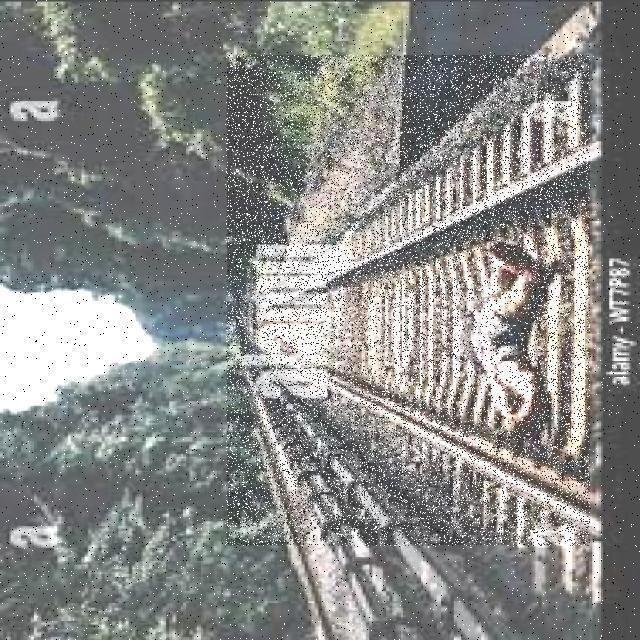rail: (228, 57, 591, 546)
